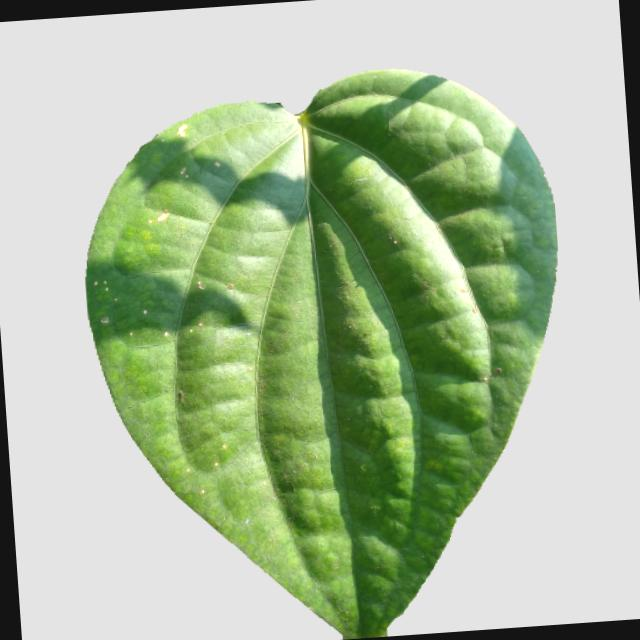healthy: (66, 53, 593, 640)
